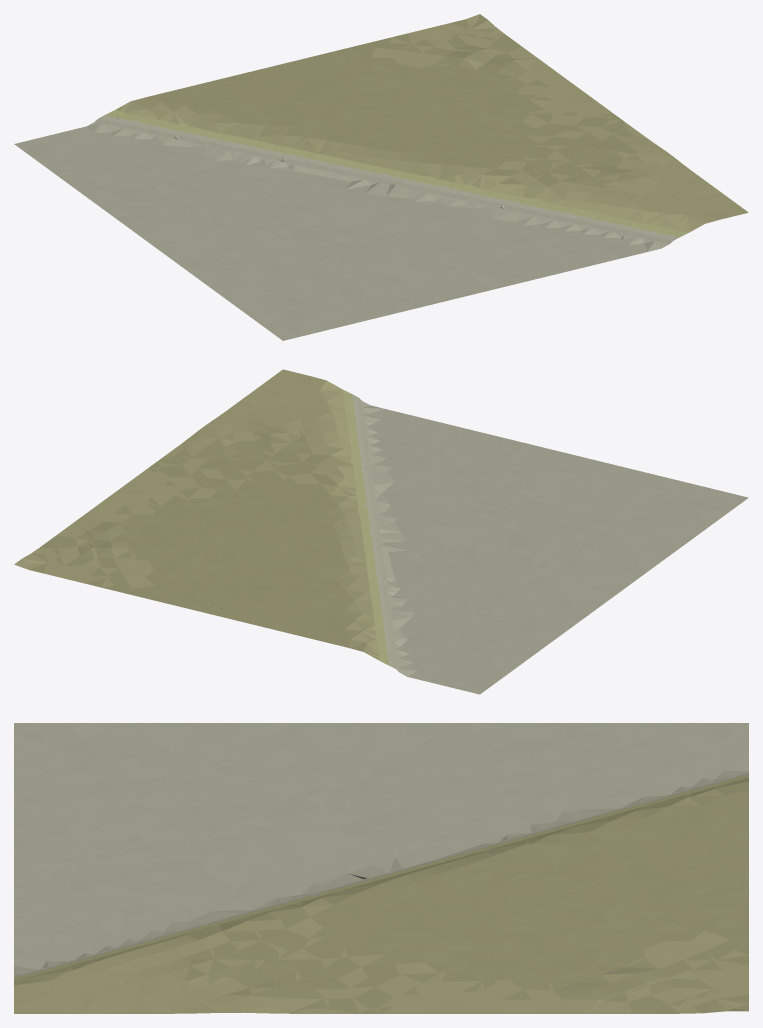
File: Ground_-4_-4.glb
3 views of the same model, one above another, from view 1: azimuth 30°, elevation 25°; view 2: azimuth 150°, elevation 25°; view 3: azimuth 270°, elevation 25° (orthographic). The views are drawn at different scales.
Parts seen in each view (by area): view 1: Ground_-4_-4; view 2: Ground_-4_-4; view 3: Ground_-4_-4.
Boxes of the visible parts, box(x1,y1,x2,y2) form: Ground_-4_-4: box(14, 14, 748, 340); Ground_-4_-4: box(14, 369, 748, 694); Ground_-4_-4: box(14, 723, 748, 1013).
Size of the model in its own units: 768 by 26.51 by 768.
